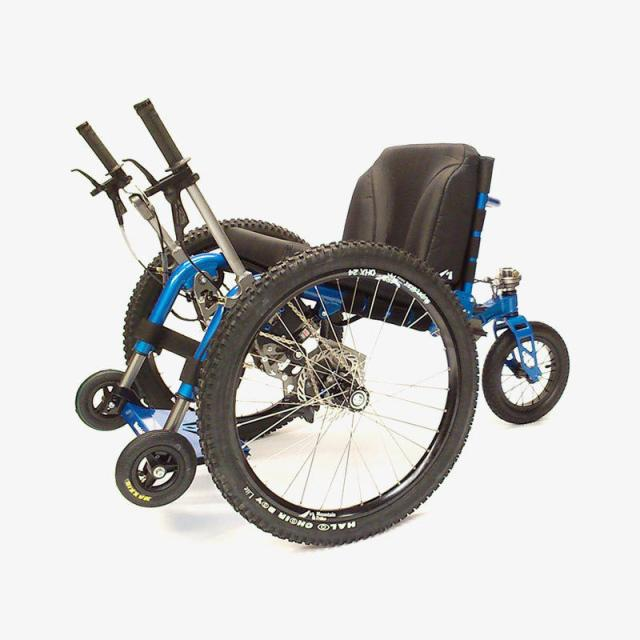wheelchairs: (110, 119, 498, 553)
